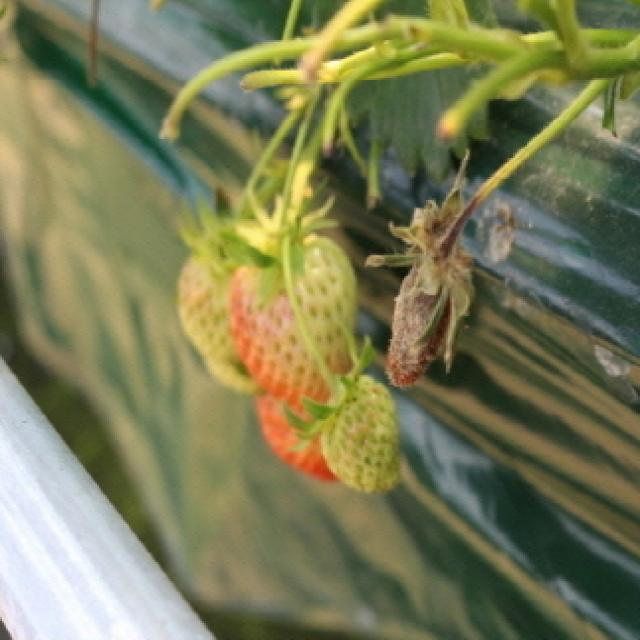Gray Mold: (366, 185, 482, 390)
